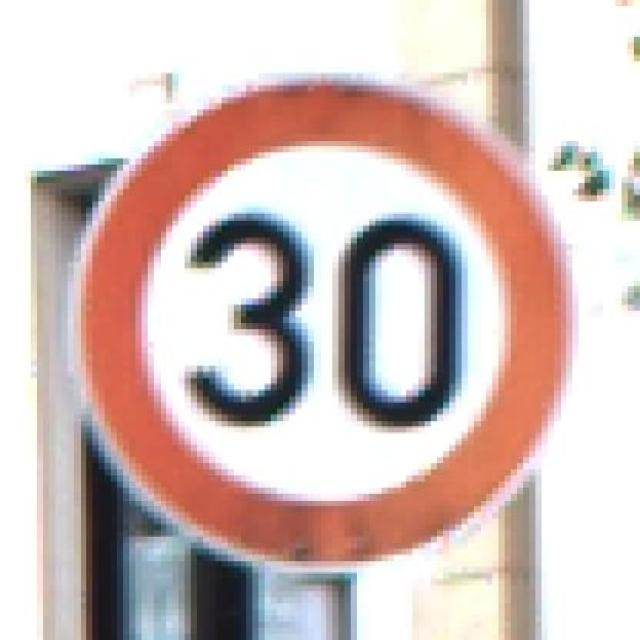Speed Limit 30 KMPh: (31, 42, 615, 580)
